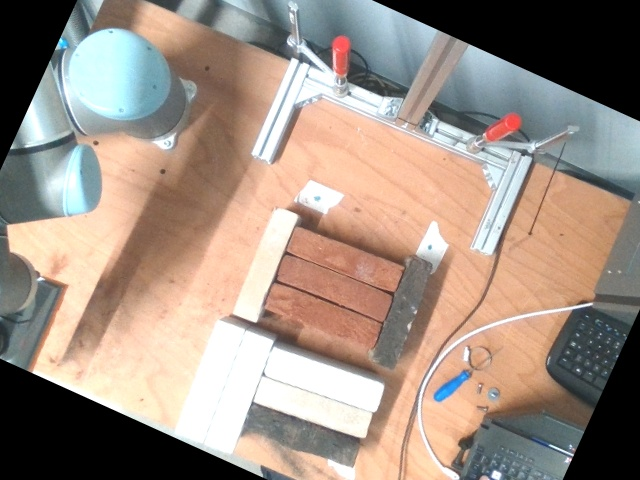brick-side: (175, 321, 245, 443), (204, 331, 272, 453), (262, 346, 384, 414), (230, 207, 299, 324), (287, 226, 402, 295), (367, 254, 434, 372), (252, 375, 373, 439), (265, 283, 382, 349), (275, 255, 390, 322), (245, 404, 362, 466)
